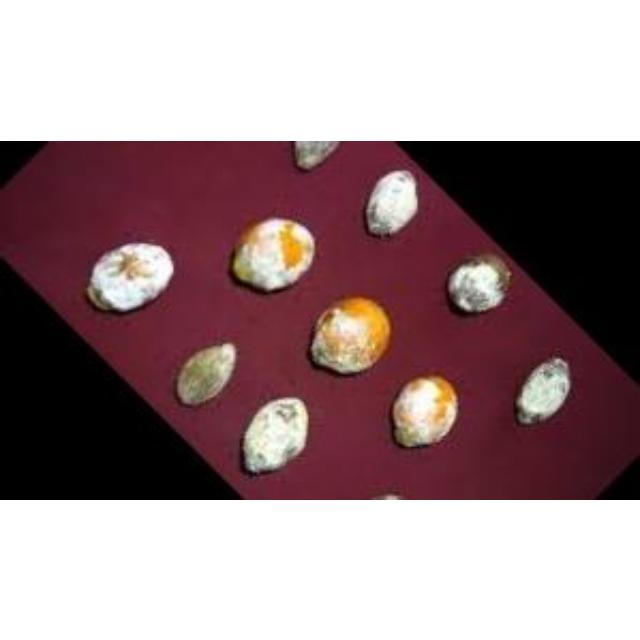damaged: (84, 238, 174, 316), (230, 215, 316, 292), (309, 294, 391, 372), (390, 373, 460, 447), (242, 396, 310, 472), (175, 340, 239, 408), (512, 354, 572, 426), (446, 252, 509, 312), (365, 168, 419, 236), (293, 141, 339, 169)
